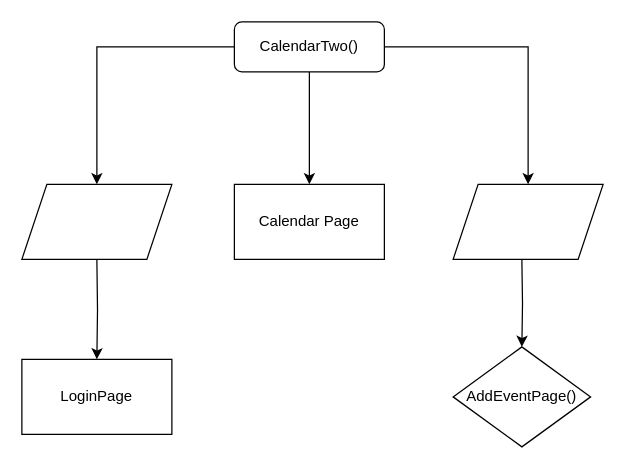
This 625x469 diagram has some shape labels left out. Each missing label, with the box of its shape:
Add Memo: (452, 183, 603, 259)
BackSpace: (21, 183, 172, 259)
